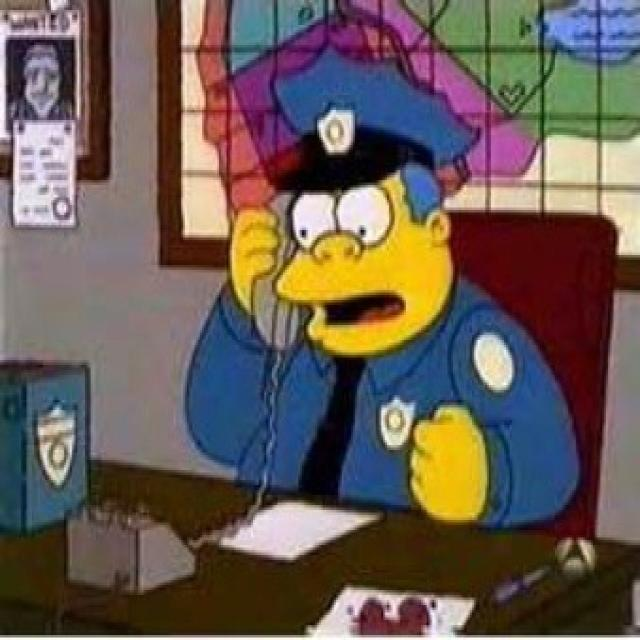Chief Wiggam: (257, 42, 478, 362)
